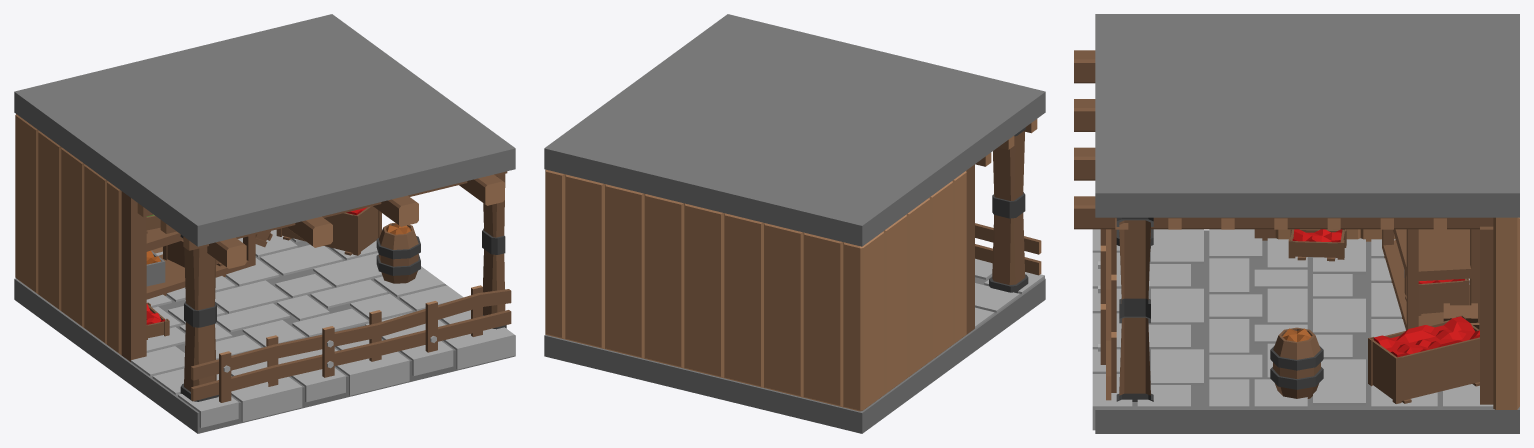
Rendered from FoodStorage_Lvl_02_Straight_Left.fbx.
3 views of the same model, side by side, from view 1: azimuth 30°, elevation 25°; view 2: azimuth 150°, elevation 25°; view 3: azimuth 270°, elevation 25° (orthographic). The views are drawn at different scales.
Parts seen in each view (by area): view 1: FoodStorage_Lvl_02_Straight_Left; view 2: FoodStorage_Lvl_02_Straight_Left; view 3: FoodStorage_Lvl_02_Straight_Left.
Boxes of the visible parts, x1,y1,x2,y2 form: FoodStorage_Lvl_02_Straight_Left: (14, 14, 515, 433); FoodStorage_Lvl_02_Straight_Left: (544, 14, 1045, 433); FoodStorage_Lvl_02_Straight_Left: (1074, 14, 1519, 433).
Bounding box in the file's own units: 8 × 5 × 8.4.
